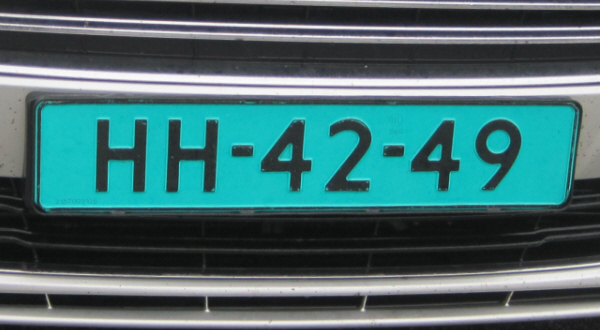license_plate: (33, 99, 581, 210)
